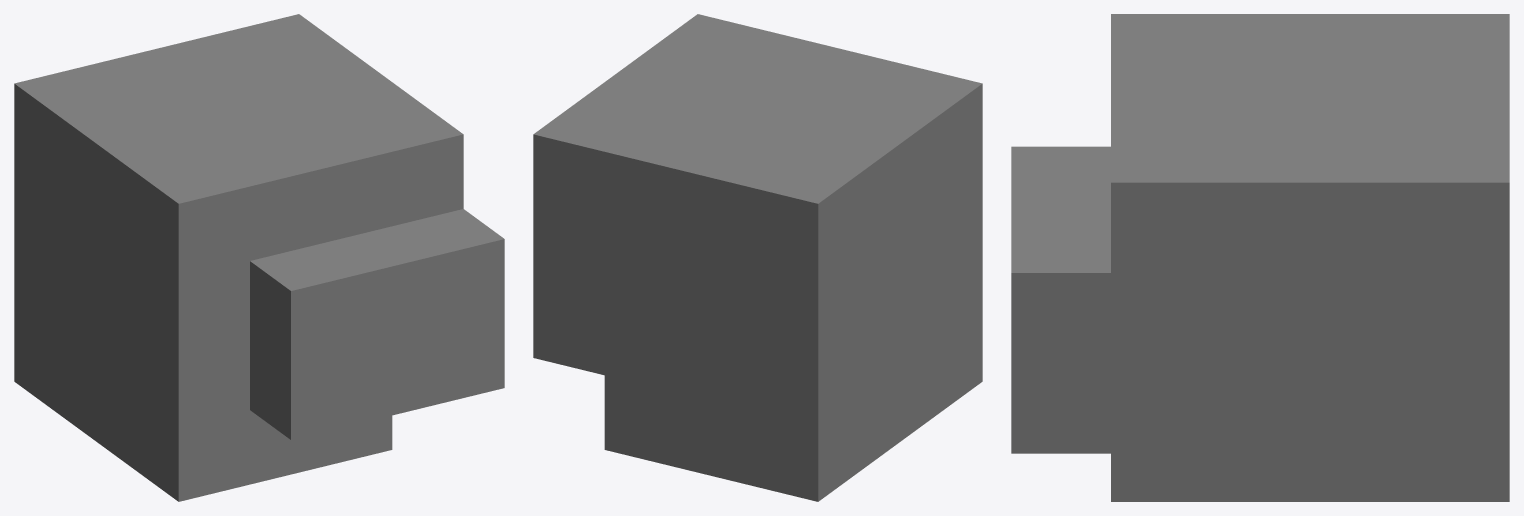
Rendered from HAND.obj.
The picture shows the model from 3 angles, left to right: view 1: azimuth 30°, elevation 25°; view 2: azimuth 150°, elevation 25°; view 3: azimuth 270°, elevation 25°; orthographic projection. The views are drawn at different scales.
Size of the model in its own units: 0.4 by 0.4 by 0.5.
1 material, 1 textured.
